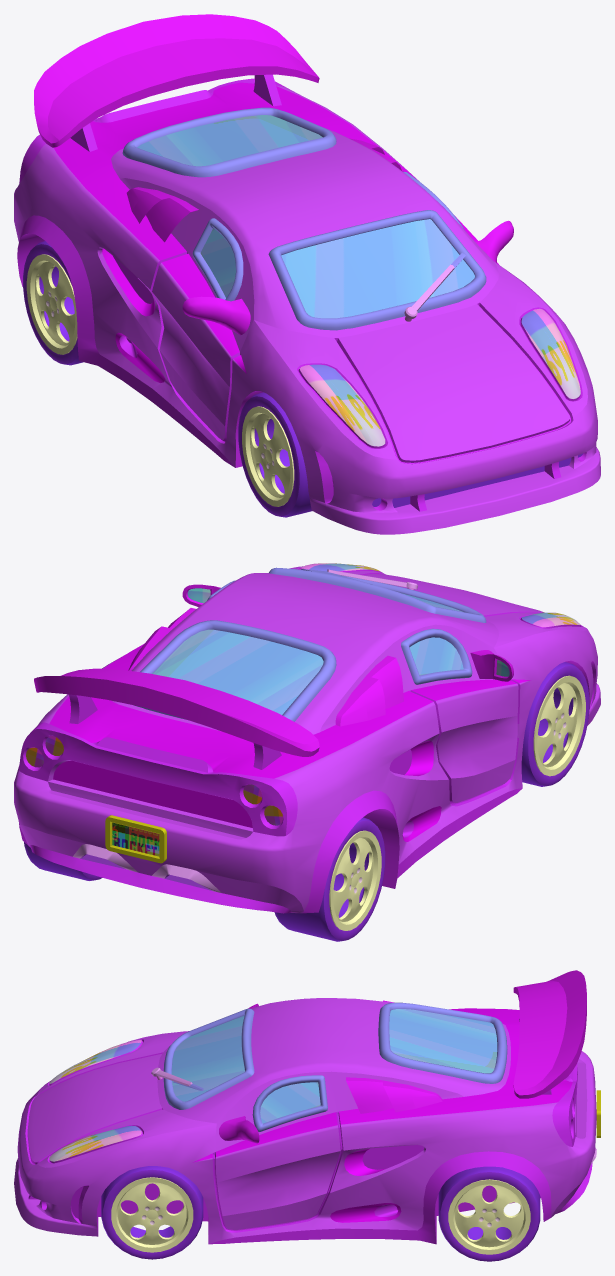
File: Lambo_GRP.fbx
The picture shows the model from 3 angles, top to bottom: view 1: azimuth 30°, elevation 25°; view 2: azimuth 150°, elevation 25°; view 3: azimuth 270°, elevation 25°; orthographic projection. The views are drawn at different scales.
Parts seen in each view (by area): view 1: Lambo_mesh, Lambo_Wheel_FR_mesh, Lambo_Wheel_BR_mesh; view 2: Lambo_mesh, Lambo_Wheel_BR_mesh, Lambo_Wheel_FR_mesh, Lambo_Wheel_BL_mesh; view 3: Lambo_mesh, Lambo_Wheel_BL_mesh, Lambo_Wheel_FL_mesh.
Boxes of the visible parts, x1,y1,x2,y2 form: Lambo_mesh: (14, 14, 600, 534); Lambo_Wheel_FR_mesh: (238, 392, 312, 517); Lambo_Wheel_BR_mesh: (23, 241, 83, 365); Lambo_mesh: (14, 563, 600, 913); Lambo_Wheel_BR_mesh: (274, 817, 385, 941); Lambo_Wheel_FR_mesh: (521, 662, 589, 786); Lambo_Wheel_BL_mesh: (24, 842, 102, 880); Lambo_mesh: (14, 970, 600, 1244); Lambo_Wheel_BL_mesh: (438, 1166, 540, 1261); Lambo_Wheel_FL_mesh: (101, 1166, 203, 1259).
Size of the model in its own units: 1.64 by 1.23 by 3.15.
